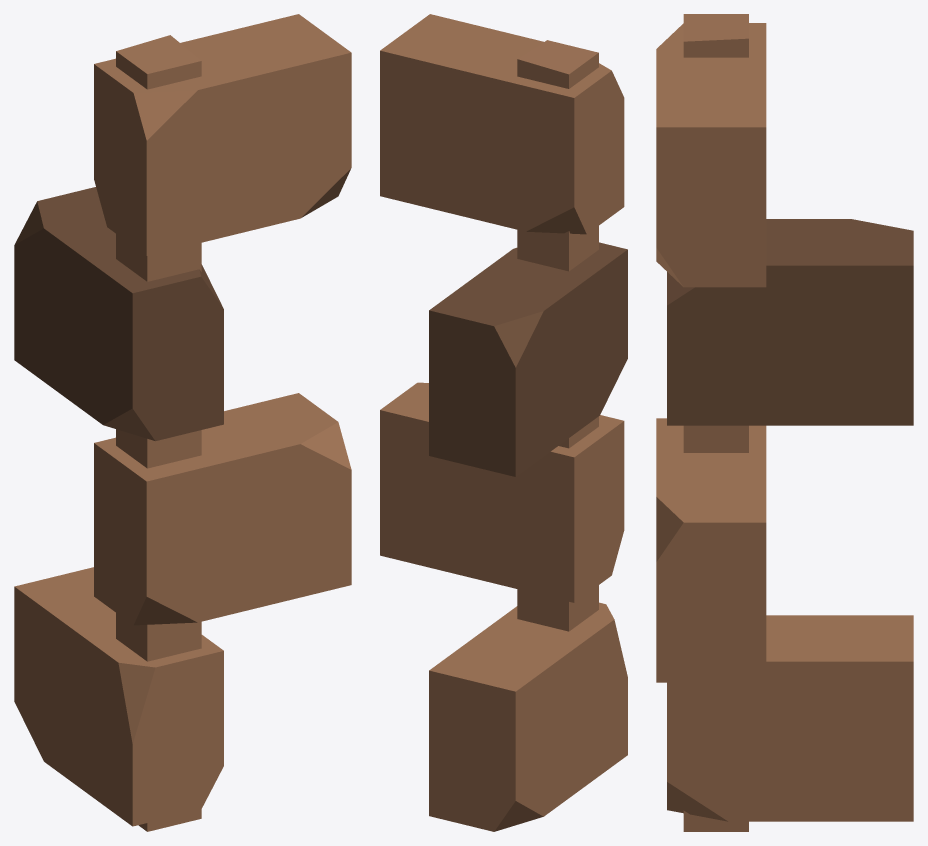
Rendered from SM_Bld_Wall_Brick_Corner_Half_01.fbx.
The picture shows the model from 3 angles, left to right: view 1: azimuth 30°, elevation 25°; view 2: azimuth 150°, elevation 25°; view 3: azimuth 270°, elevation 25°; orthographic projection. The views are drawn at different scales.
Parts seen in each view (by area): view 1: SM_Bld_Wall_Brick_Corner_Half_01; view 2: SM_Bld_Wall_Brick_Corner_Half_01; view 3: SM_Bld_Wall_Brick_Corner_Half_01.
Boxes of the visible parts, x1,y1,x2,y2 form: SM_Bld_Wall_Brick_Corner_Half_01: [14, 14, 351, 831]; SM_Bld_Wall_Brick_Corner_Half_01: [380, 14, 627, 831]; SM_Bld_Wall_Brick_Corner_Half_01: [656, 14, 913, 831].
Size of the model in its own units: 44.21 by 150 by 44.21.
